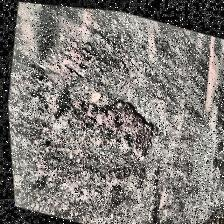pothole: (76, 88, 162, 159)
